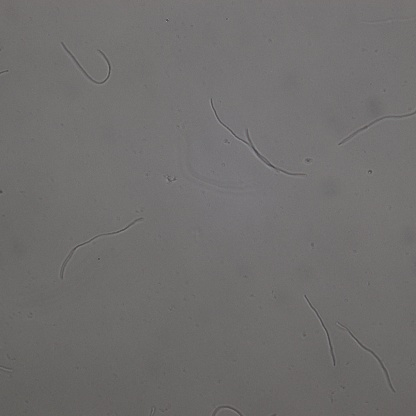Sensitive: (210, 98, 305, 177), (61, 217, 142, 278), (341, 324, 395, 392), (339, 111, 416, 145), (305, 295, 337, 367), (62, 43, 112, 85)
